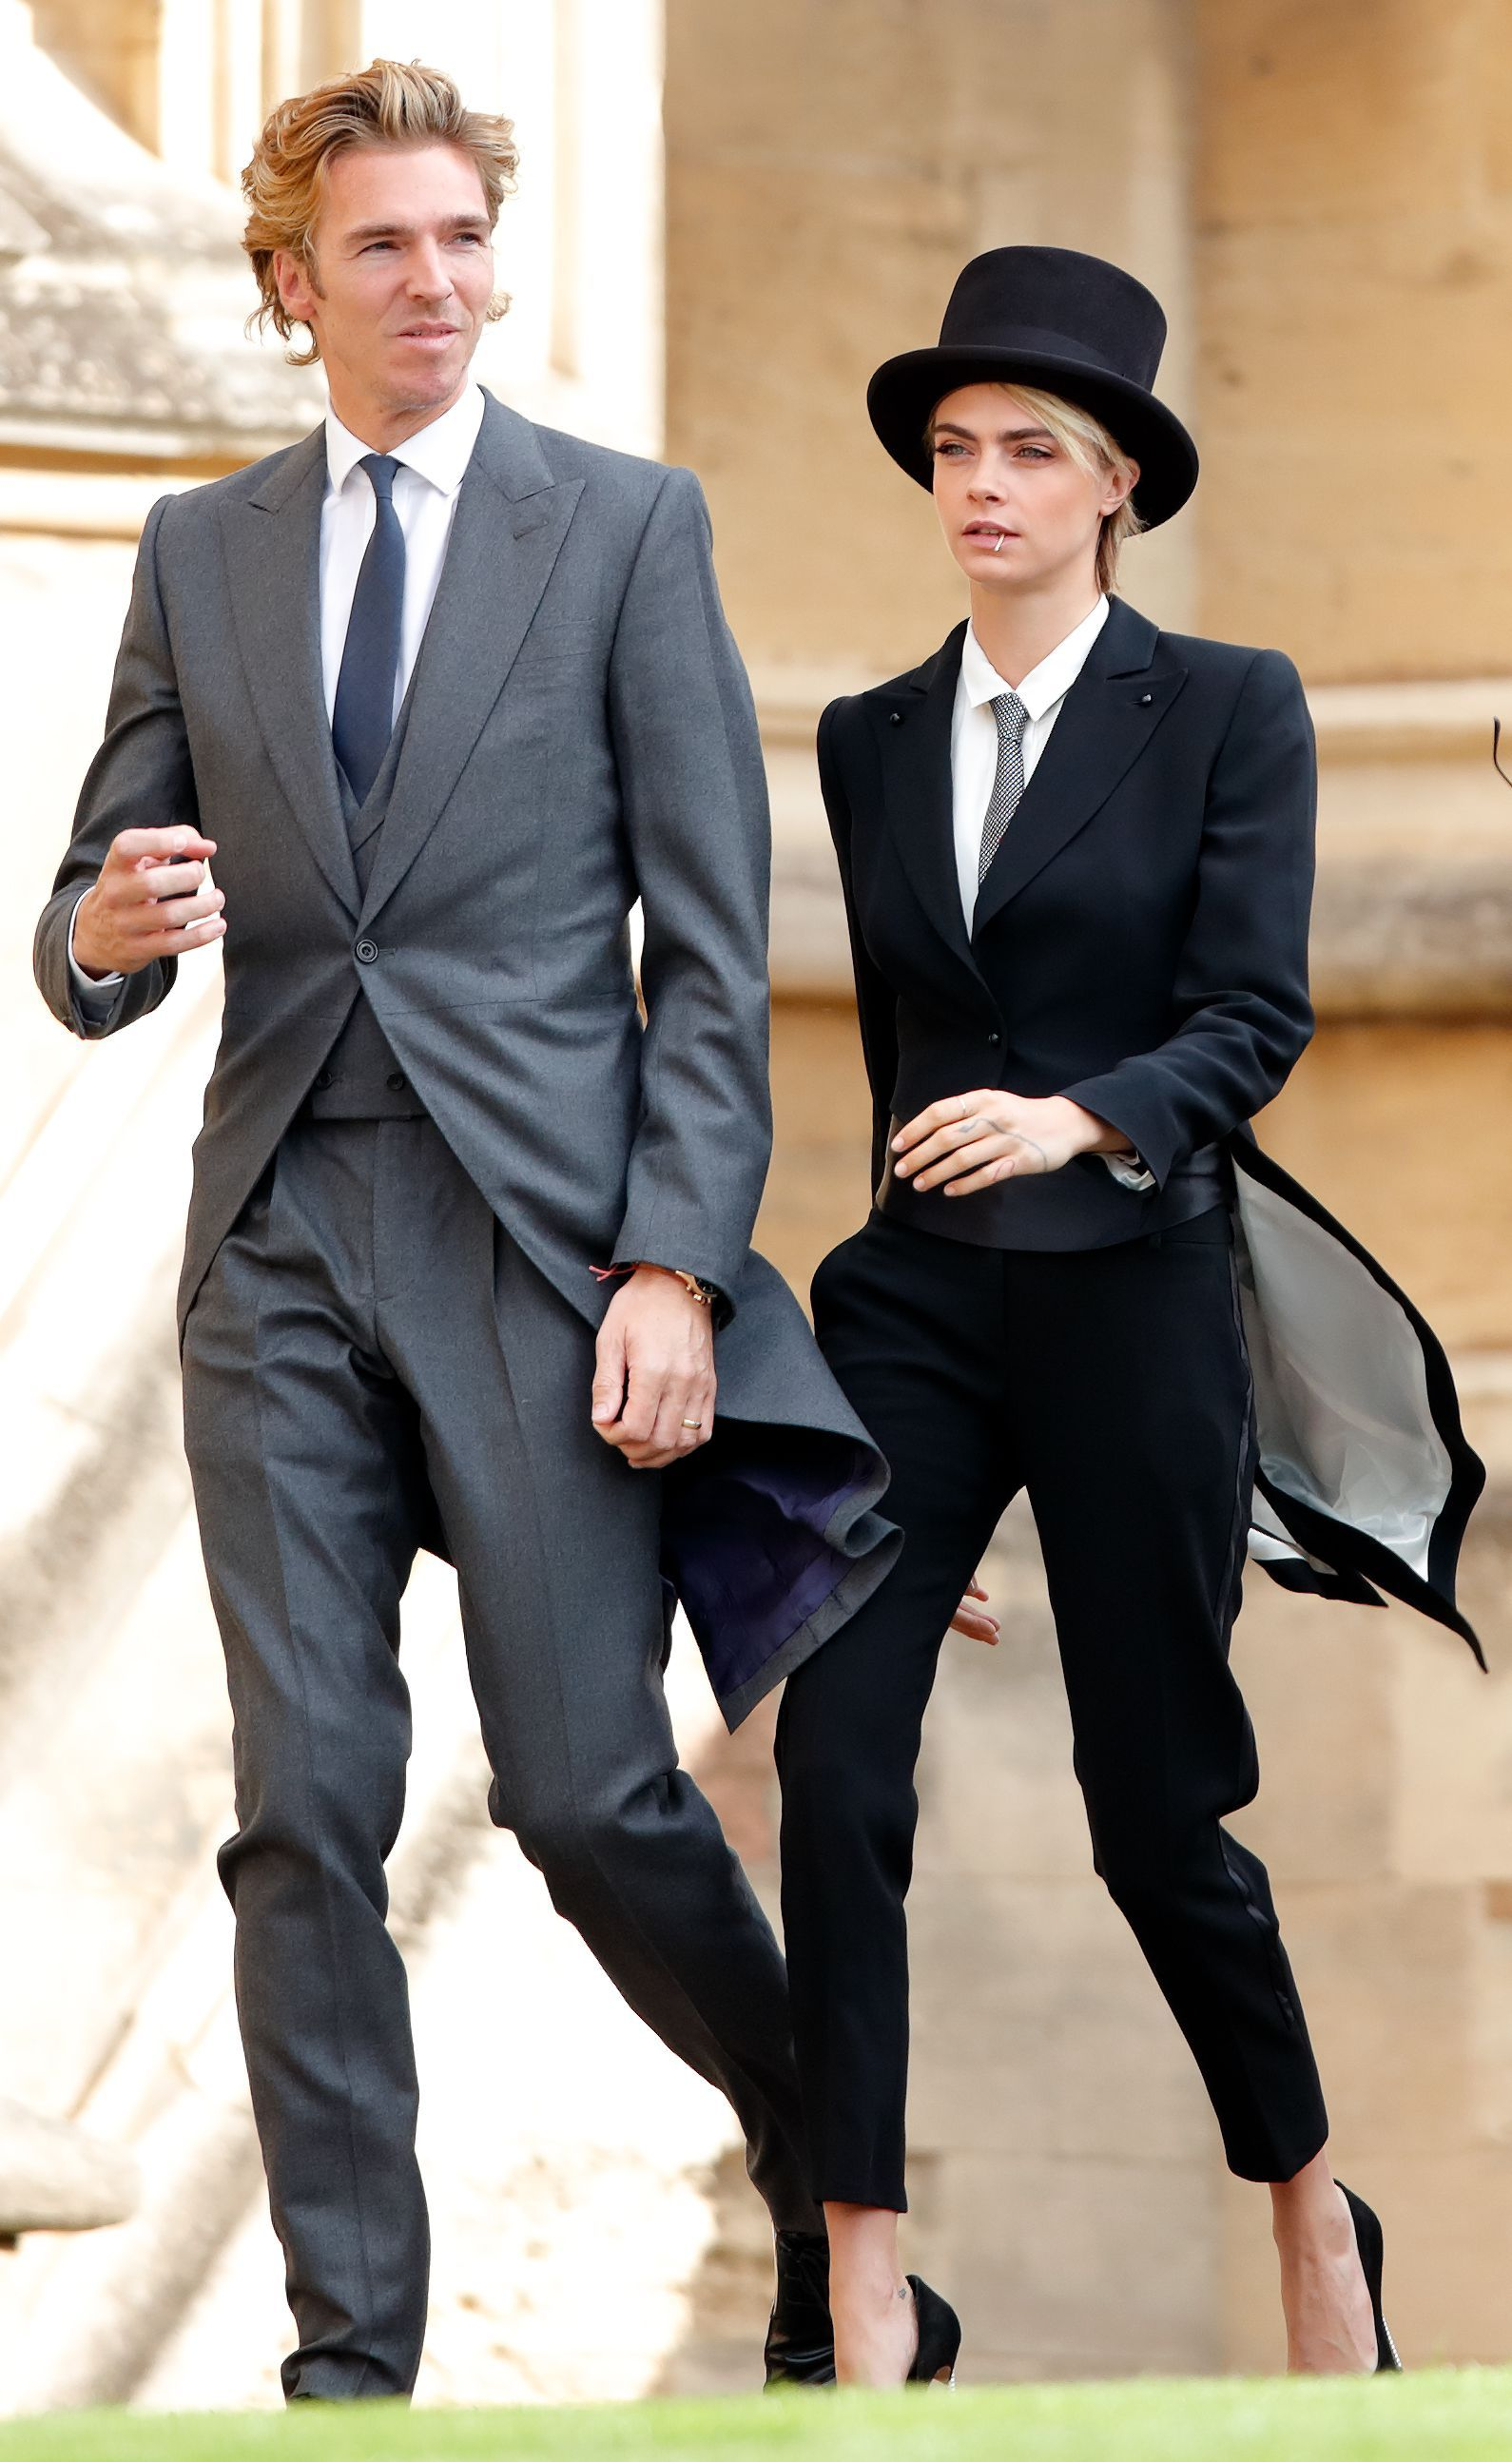Person: (29, 54, 897, 2419), (822, 222, 1512, 2388)
